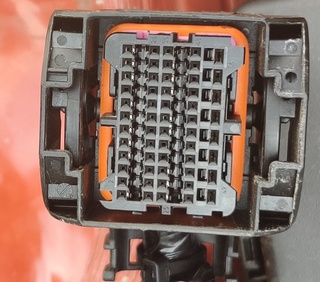connector: (39, 11, 309, 237)
